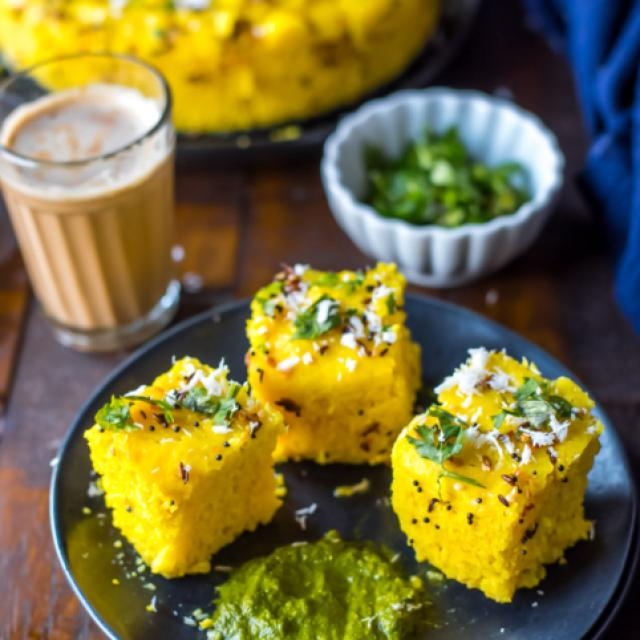chai: (0, 46, 186, 348)
dhokla: (390, 349, 640, 576), (90, 352, 247, 564), (255, 262, 410, 476)
